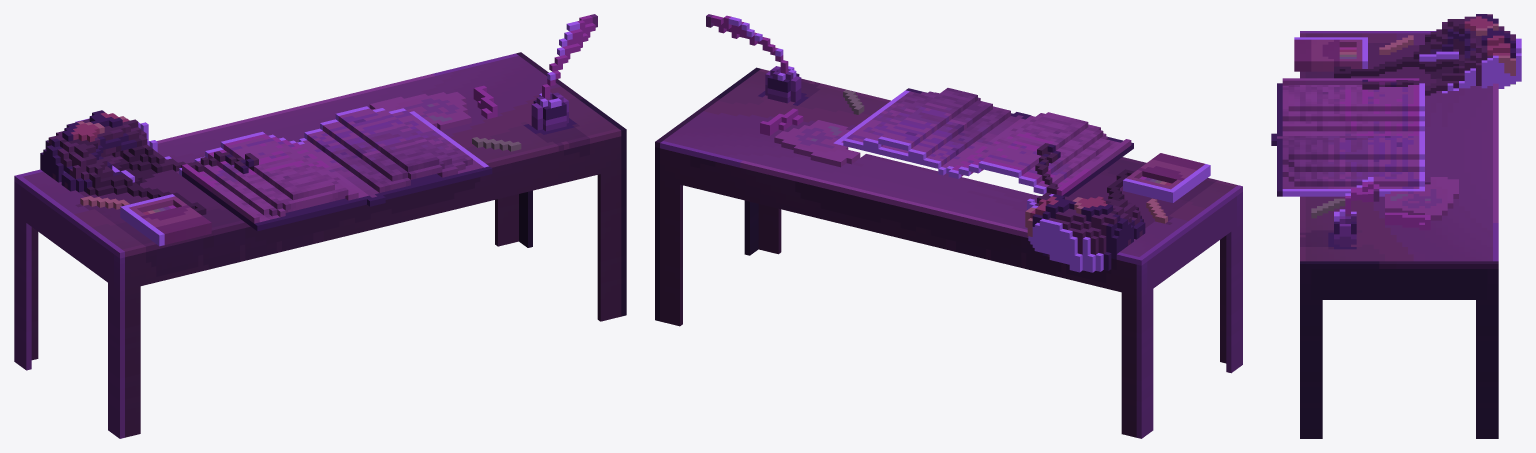
The model's file is authors_table.obj.
3 views of the same model, side by side, from view 1: azimuth 30°, elevation 25°; view 2: azimuth 150°, elevation 25°; view 3: azimuth 270°, elevation 25° (orthographic). The views are drawn at different scales.
Bounding box in the file's own units: 9.9 × 4.9 × 4.4.
Materials: 1 (1 with a texture image).
